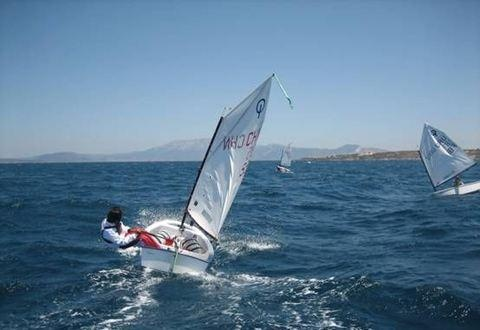fanchuan: (98, 72, 291, 277), (413, 120, 480, 198)
person: (102, 208, 166, 251)
